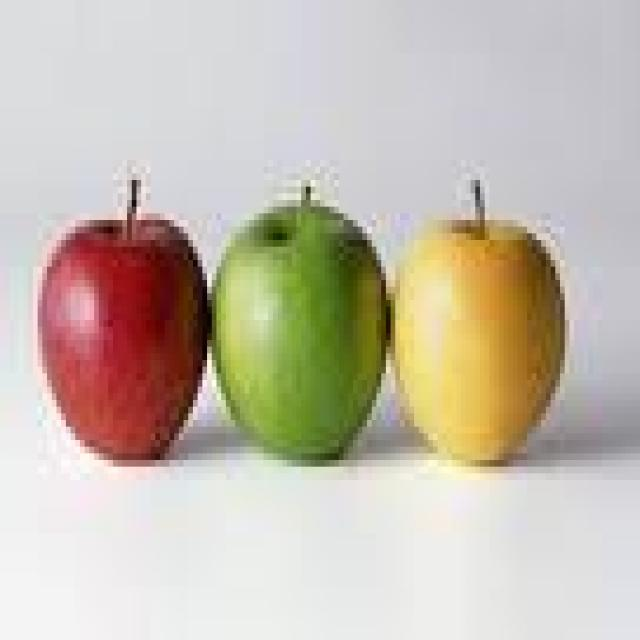apples: (19, 147, 583, 480)
